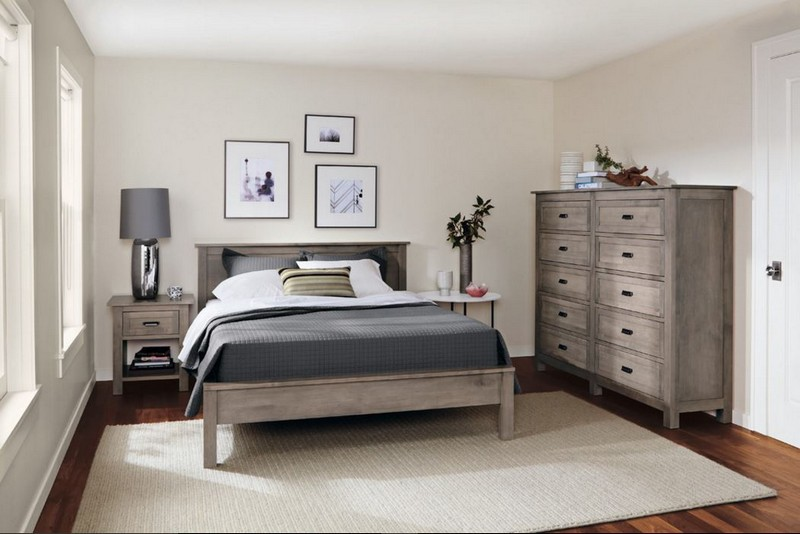bed: (190, 237, 516, 472)
lamp: (119, 185, 174, 304)
stool: (101, 291, 196, 405), (417, 285, 505, 354)
